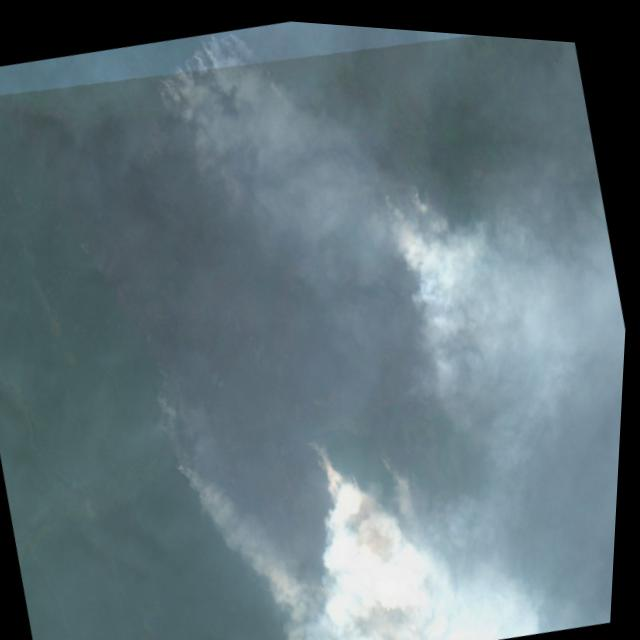fire: (148, 335, 440, 640), (141, 10, 292, 115), (368, 165, 465, 293)
